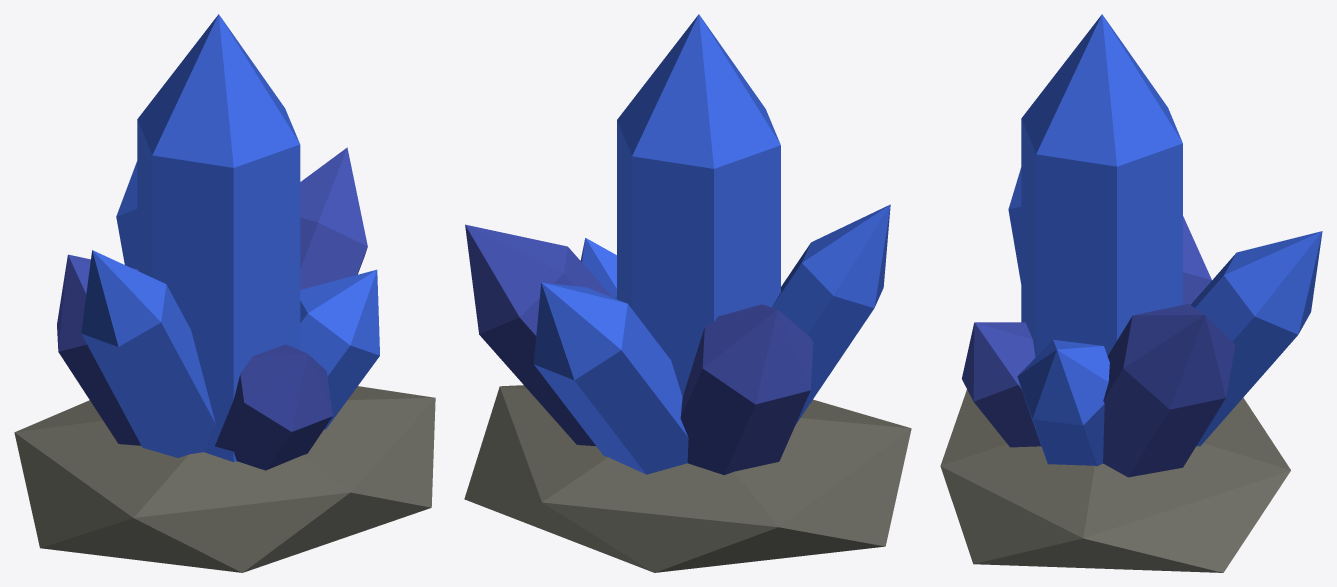
Rendered from SapphireCrystals.fbx.
3 views of the same model, side by side, from view 1: azimuth 30°, elevation 25°; view 2: azimuth 150°, elevation 25°; view 3: azimuth 270°, elevation 25° (orthographic).
Parts seen in each view (by area): view 1: SapphireCrystals; view 2: SapphireCrystals; view 3: SapphireCrystals.
Part boxes in pixels (x1,y1,x2,y2): SapphireCrystals: (14,14,435,572); SapphireCrystals: (464,14,911,572); SapphireCrystals: (940,14,1322,572).
Bounding box in the file's own units: 2.59 × 3.26 × 2.22.
Materials: 1 (1 with a texture image).
